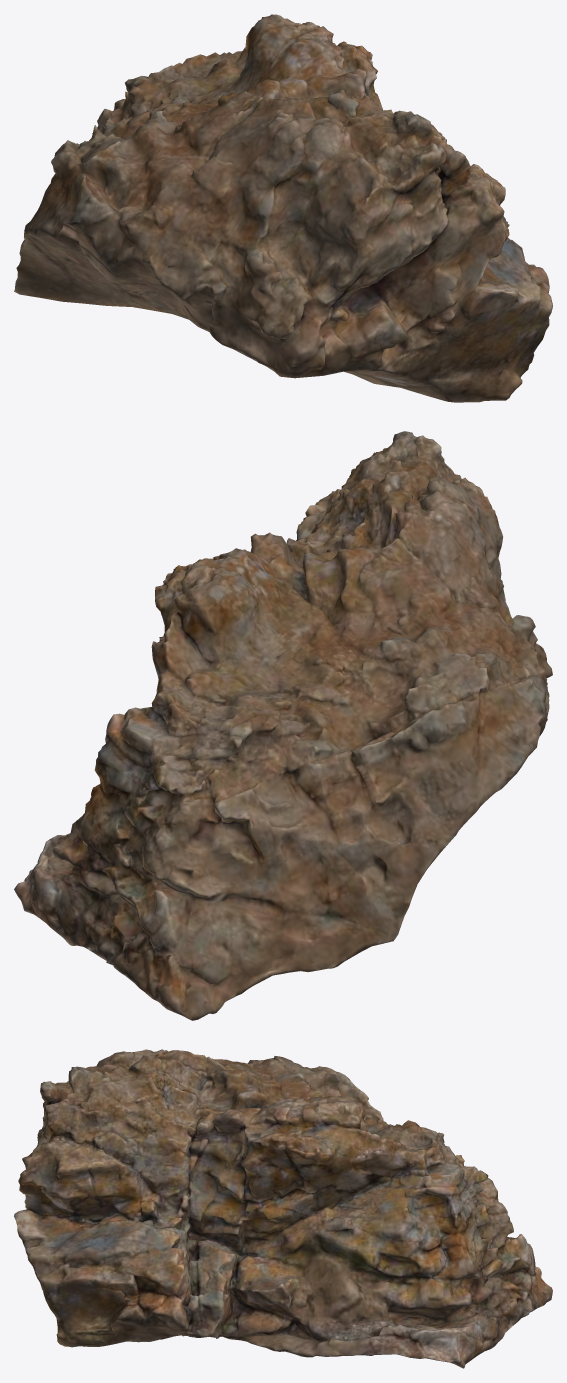
File: boulder_real.glb
3 views of the same model, one above another, from view 1: azimuth 30°, elevation 25°; view 2: azimuth 150°, elevation 25°; view 3: azimuth 270°, elevation 25° (orthographic). The views are drawn at different scales.
Visible parts, largest first — view 1: boulder_01_LOD1; view 2: boulder_01_LOD1; view 3: boulder_01_LOD1.
Boxes of the visible parts, x1=… form: boulder_01_LOD1: x1=14, y1=14, x2=552, y2=402; boulder_01_LOD1: x1=14, y1=431, x2=552, y2=1020; boulder_01_LOD1: x1=14, y1=1049, x2=552, y2=1368.
Size of the model in its own units: 1.27 by 1 by 1.83.
Materials: 1 (1 with a texture image).
